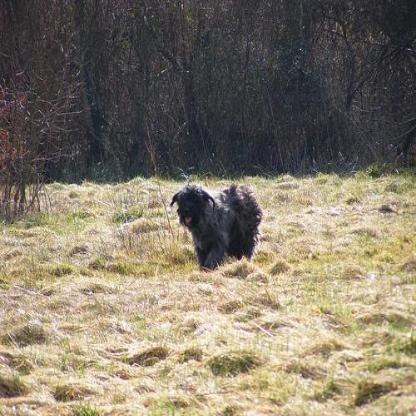Bouvier_des_Flandres: (166, 181, 263, 273)
